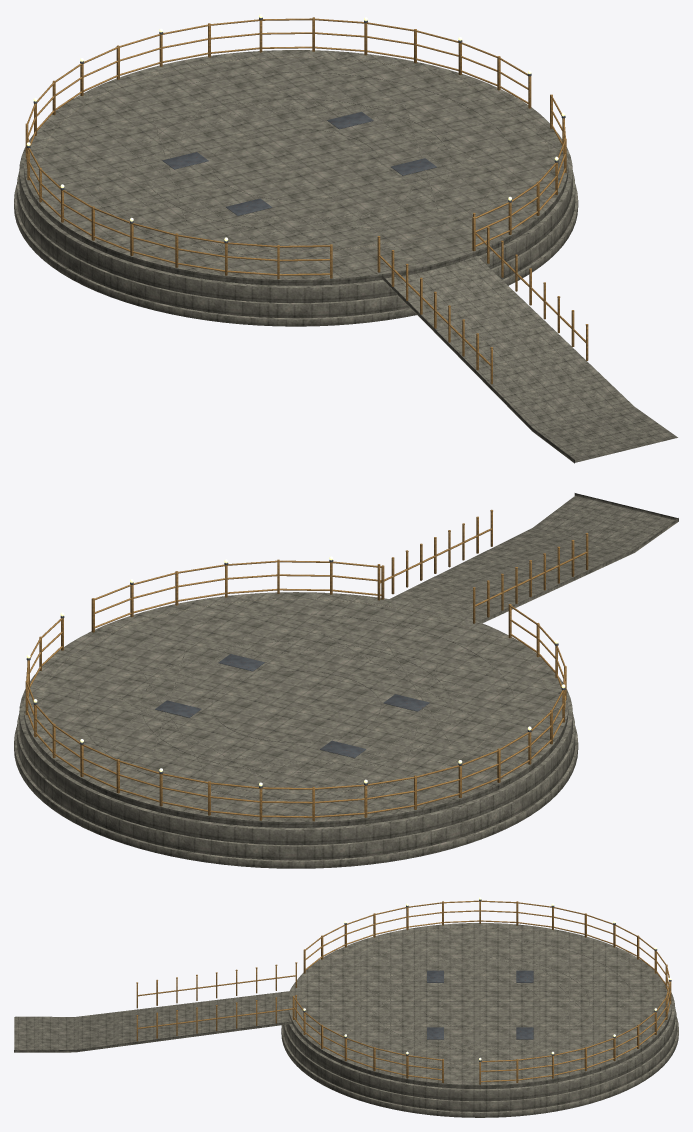
The model's file is launchpad_pad.gltf.
The picture shows the model from 3 angles, top to bottom: view 1: azimuth 30°, elevation 25°; view 2: azimuth 150°, elevation 25°; view 3: azimuth 270°, elevation 25°; orthographic projection. The views are drawn at different scales.
Parts seen in each view (by area): view 1: PadStone, OxidizedBronze, GraphiteMetal, DeckInlay; view 2: PadStone, OxidizedBronze, GraphiteMetal, DeckInlay; view 3: PadStone, OxidizedBronze, GraphiteMetal.
Boxes of the visible parts, x1,y1,x2,y2 form: PadStone: (14, 50, 677, 463); OxidizedBronze: (25, 17, 588, 384); GraphiteMetal: (26, 17, 565, 243); DeckInlay: (41, 57, 550, 251); PadStone: (14, 493, 678, 868); OxidizedBronze: (25, 509, 588, 821); GraphiteMetal: (26, 560, 565, 788); DeckInlay: (41, 599, 550, 793); PadStone: (14, 923, 678, 1117); OxidizedBronze: (136, 900, 671, 1084); GraphiteMetal: (303, 899, 671, 1061).
Bounding box in the file's own units: 16 × 2.55 × 26.76.
